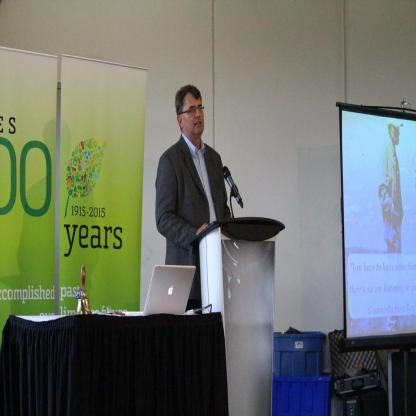board: (140, 267, 196, 325)
